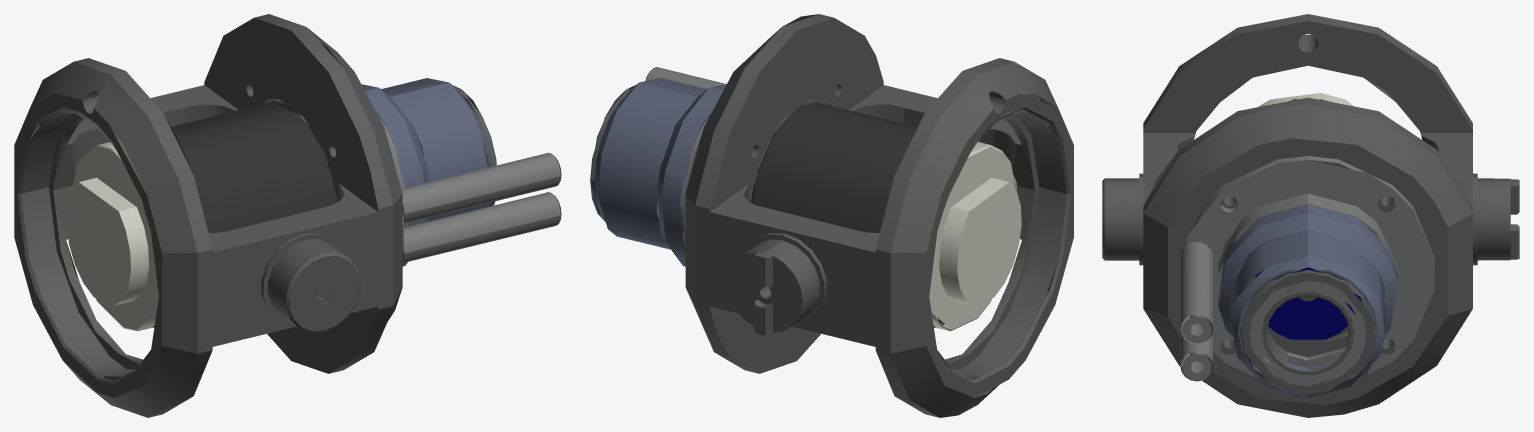
File: head_1_joint.obj
The picture shows the model from 3 angles, left to right: view 1: azimuth 30°, elevation 25°; view 2: azimuth 150°, elevation 25°; view 3: azimuth 270°, elevation 25°; orthographic projection. The views are drawn at different scales.
Size of the model in its own units: 0.0541 by 0.042 by 0.0507.
1 material, 1 textured.
